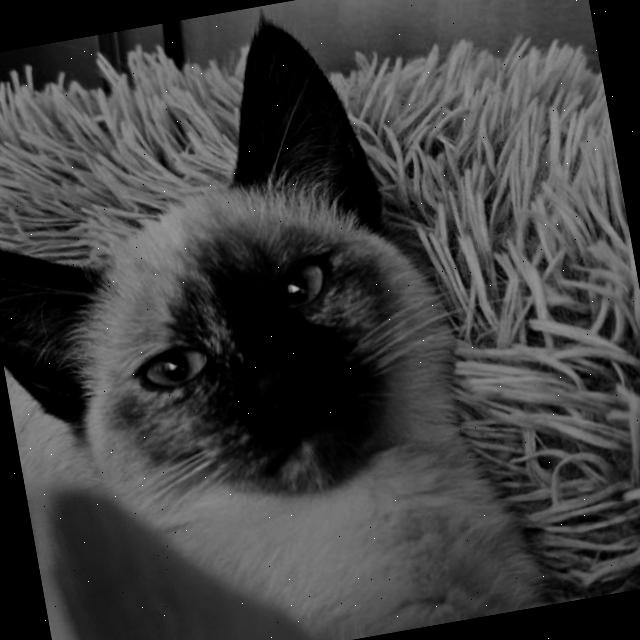siamese_cat: (0, 0, 504, 581)
